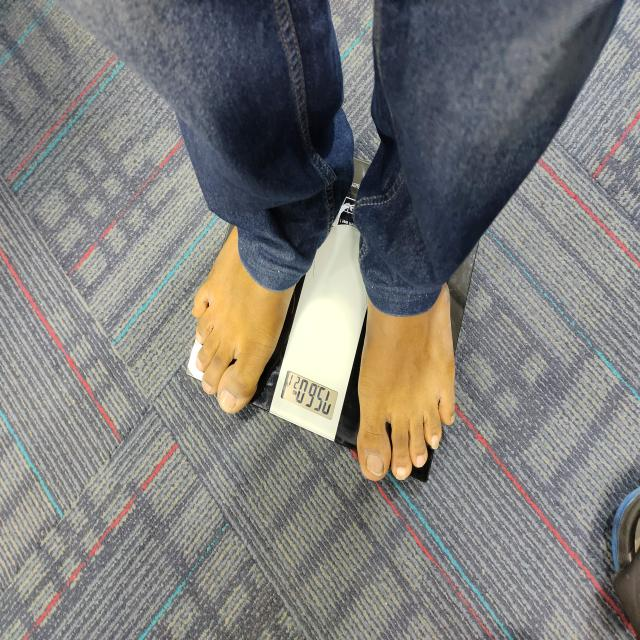ws: (263, 223, 369, 443)
